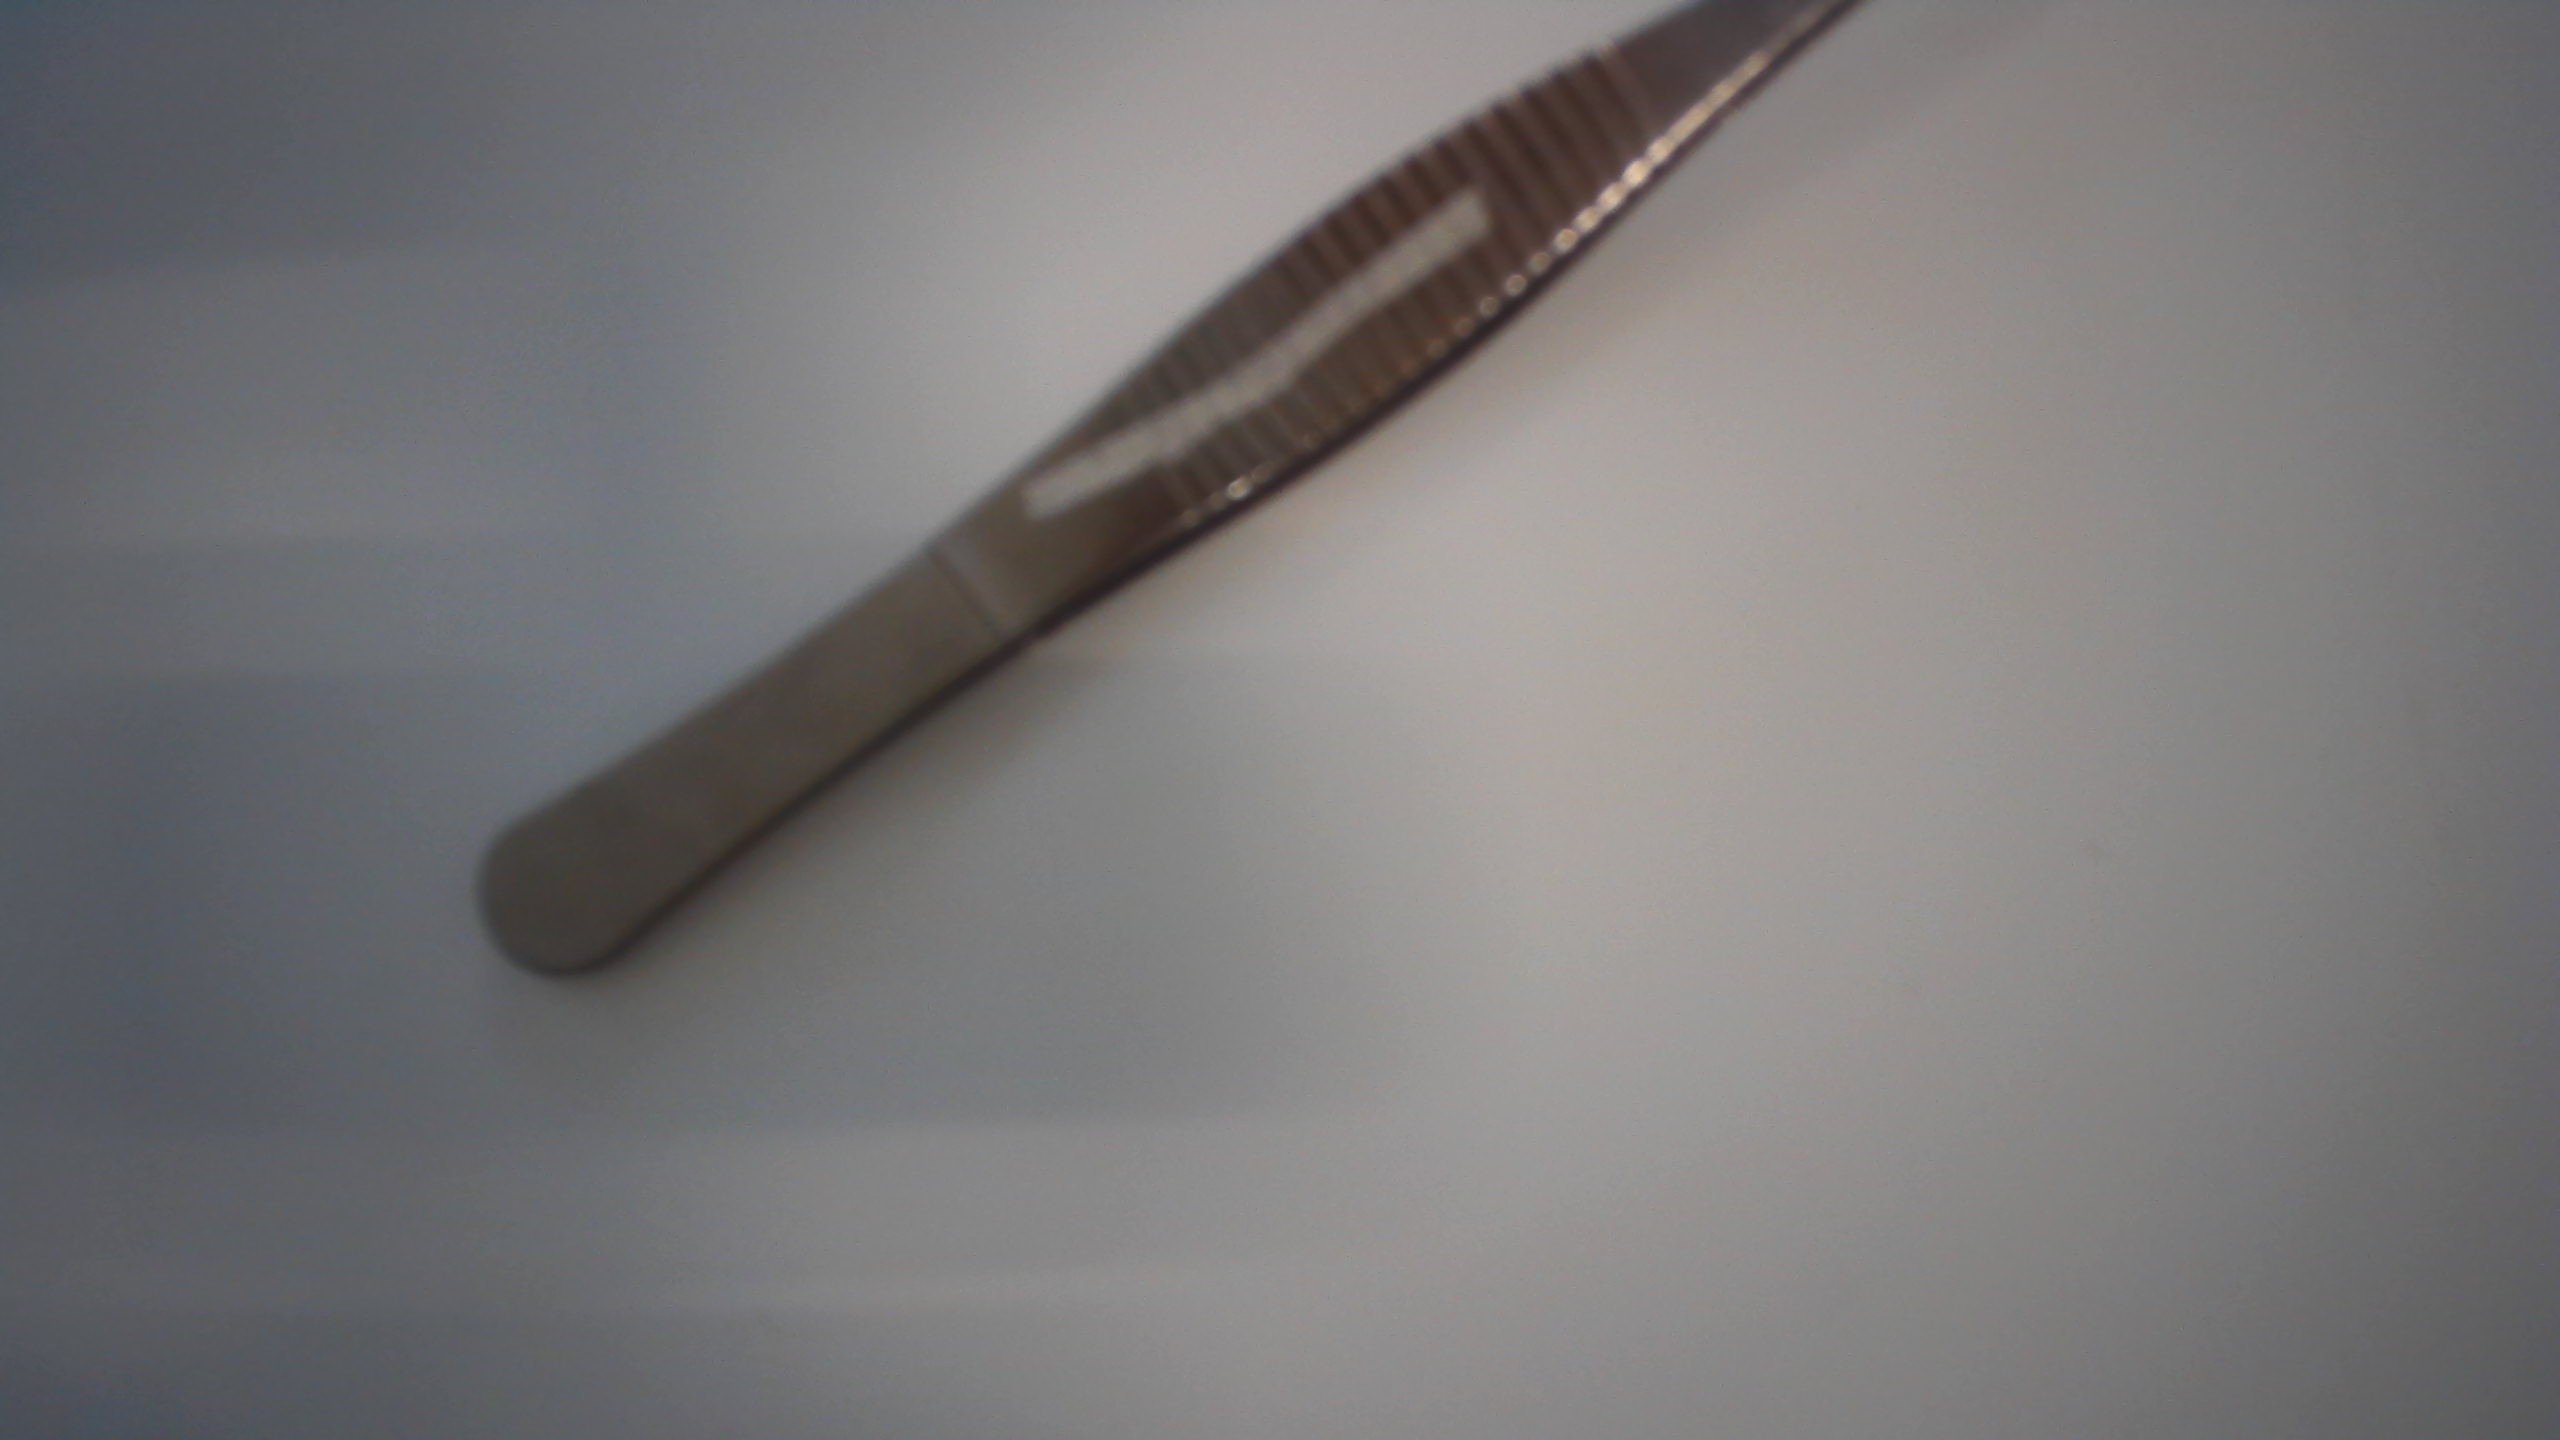Scratches: (992, 176, 1519, 549)
